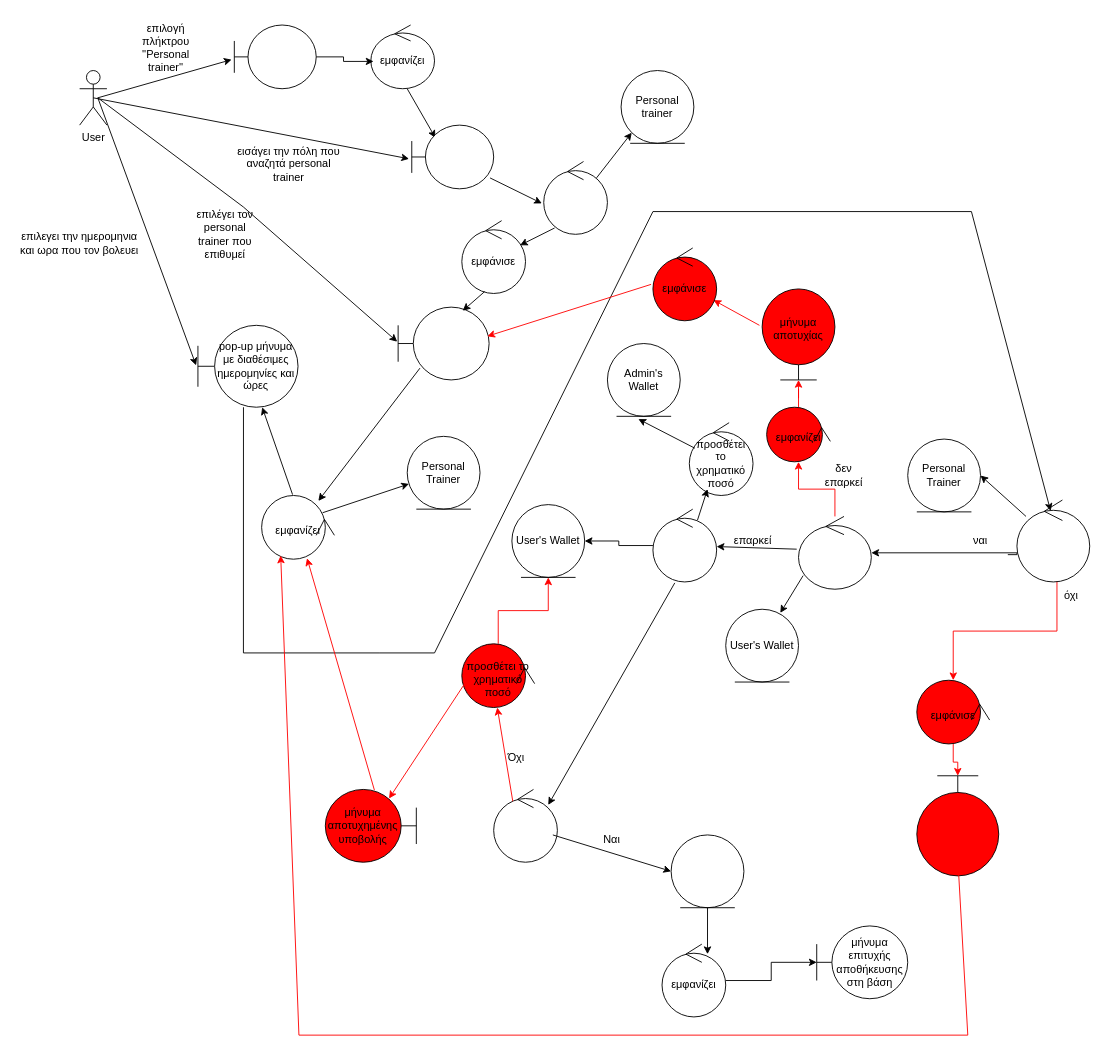
This 1114x1058 diagram has some shape labels left out. Here are the shapes that lost their labels. From the top down, the box of each, then its label:
(233, 24, 316, 89): καρτέλα Γυμναστικής
(411, 124, 494, 189): καρτέλα '' Personal Trainer''
(543, 161, 607, 234): φέρε από τη βάση
(397, 306, 489, 380): Personal trainer list
(652, 508, 717, 582): αφαιρεί το χρηματικό ποσό
(798, 516, 871, 589): έλεγχος αν επαρκεί το χρηματικό ποσό
(1016, 499, 1090, 582): έλεγχος αν υπάρχει διαθεσιμότητα
(493, 789, 557, 862): αποθηκεύει και δεσμευση ώρας
(916, 775, 999, 876): μήνυμα ότι δεν είναι διαθέσιμες οι επιλεγμένες ώρες
(670, 834, 744, 908): Appointment
